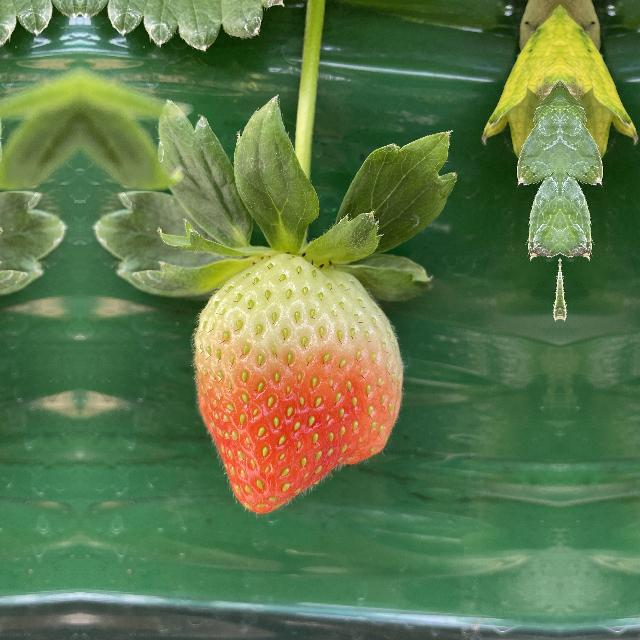Health_75: (188, 246, 412, 516)
